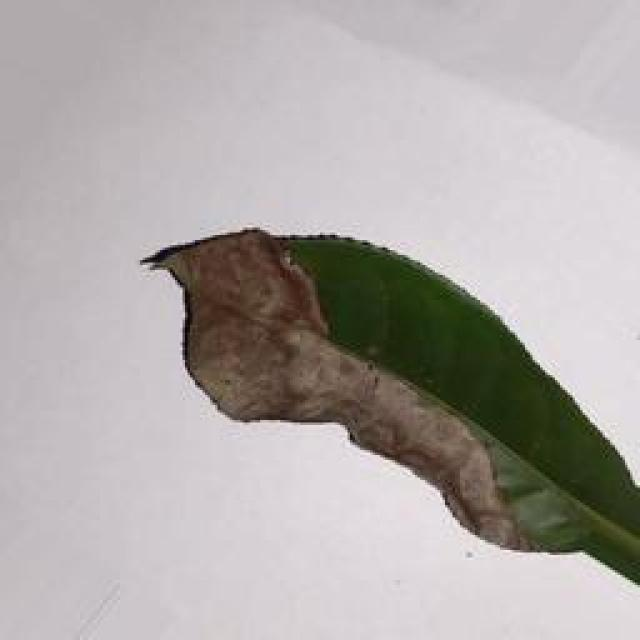Brown Blight: (135, 215, 640, 593)
